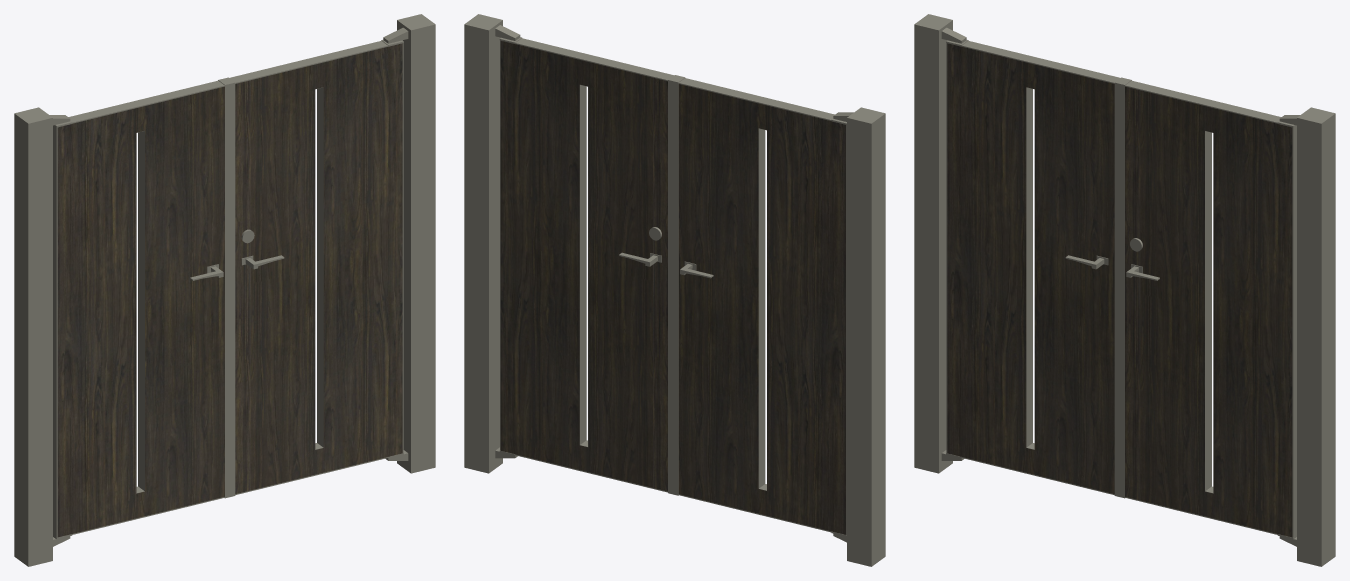
Rendered from 07-07-16_blackebony.fbx.
3 renders of one model, left to right at view 1: azimuth 30°, elevation 25°; view 2: azimuth 150°, elevation 25°; view 3: azimuth 330°, elevation 25°, orthographic.
Visible parts, largest first — view 1: 07-07-16blackebony; view 2: 07-07-16blackebony; view 3: 07-07-16blackebony.
Boxes of the visible parts, x1,y1,x2,y2 form: 07-07-16blackebony: (14, 14, 435, 566); 07-07-16blackebony: (464, 14, 885, 566); 07-07-16blackebony: (914, 14, 1335, 566).
Bounding box in the file's own units: 165 × 172 × 16.7.
Materials: 2 (2 with a texture image).
